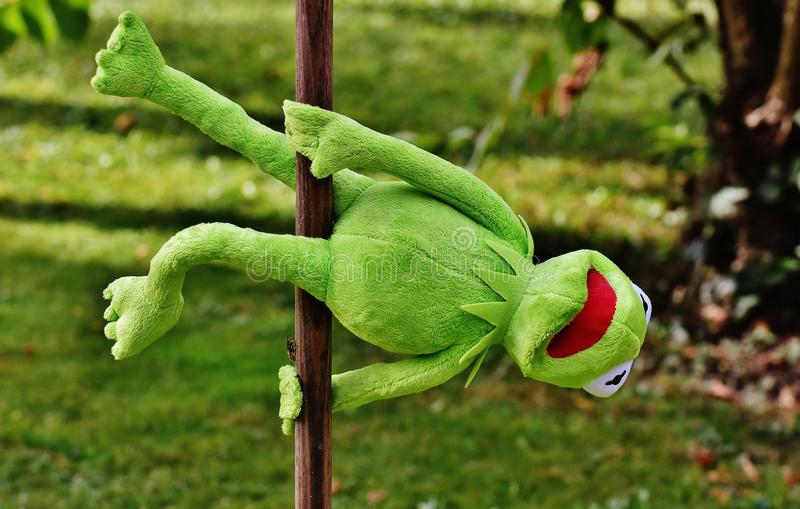kermit: (503, 236, 659, 407)
